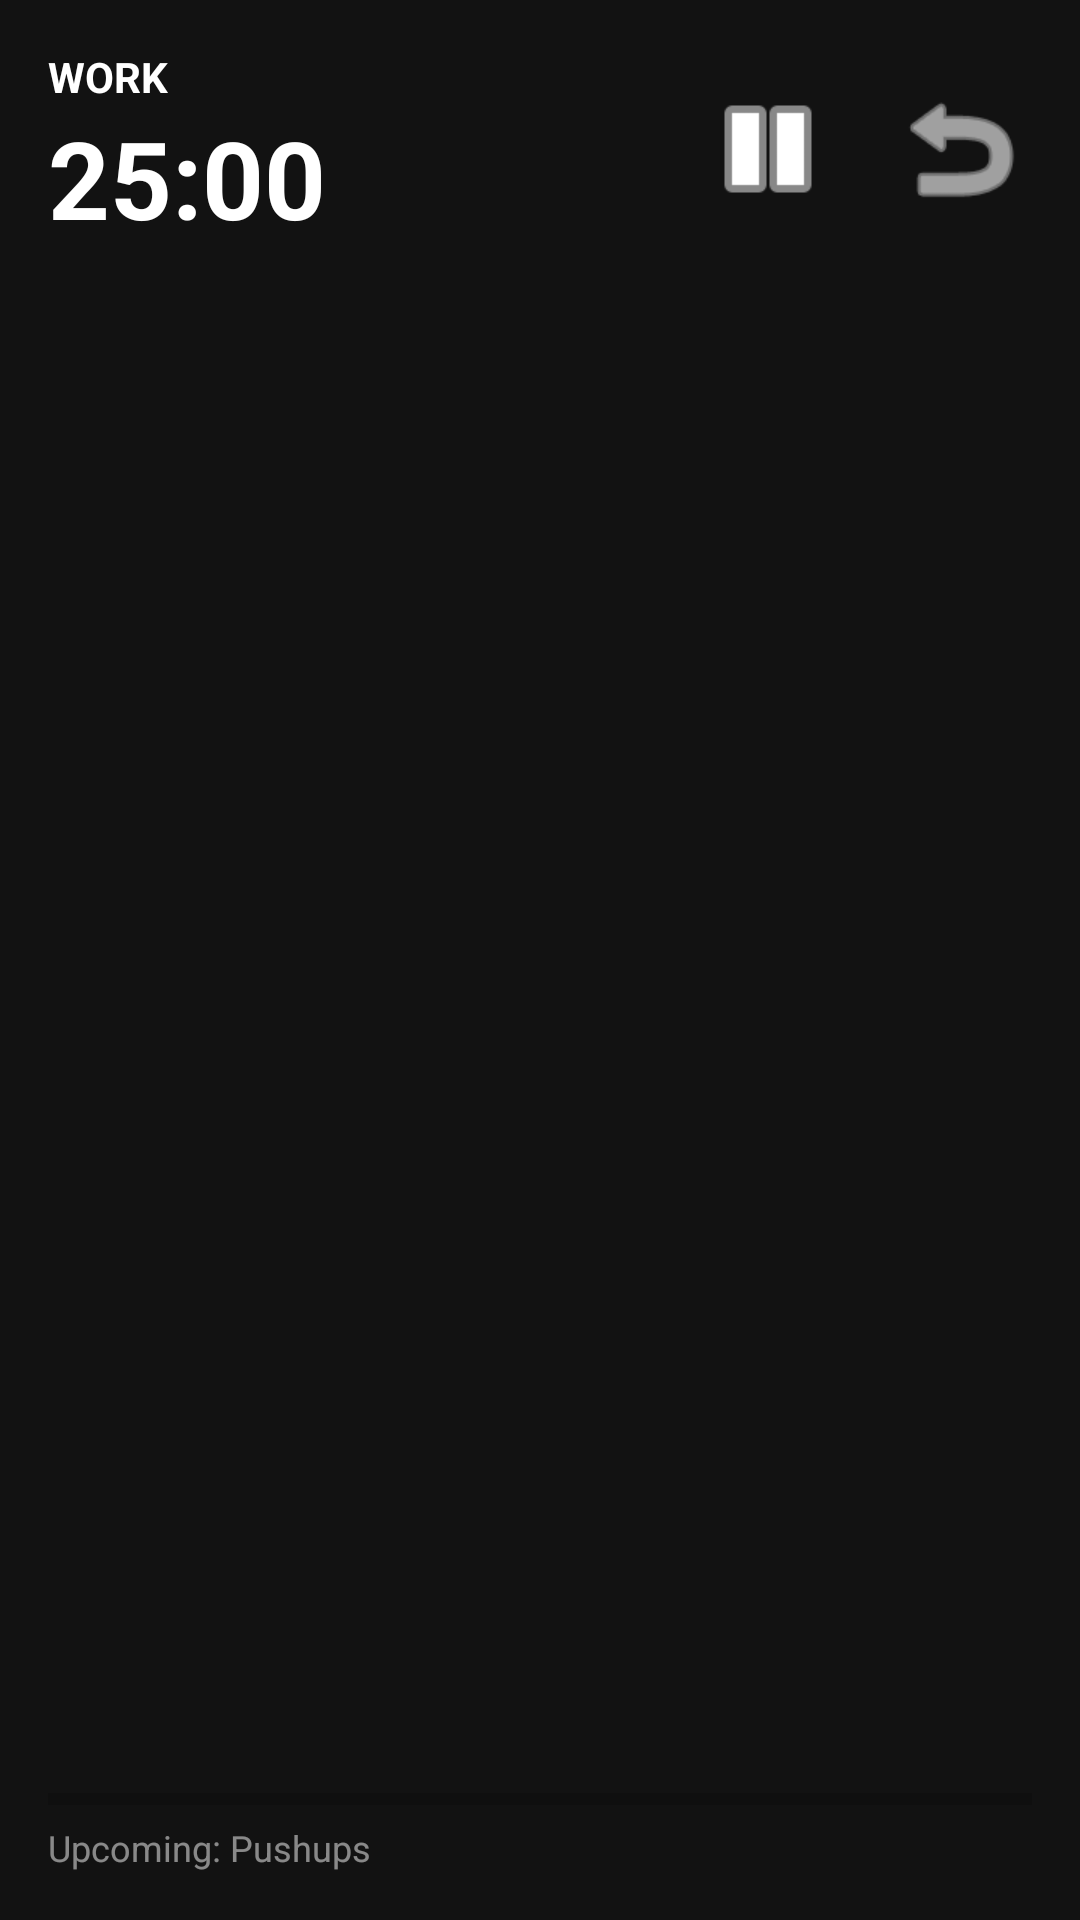

Icon bounding boxes for this 1080×1920 phone screenshot, format (x1, y1, x2, y2):
pause: (724, 105, 812, 193)
revert: (910, 103, 1014, 197)
